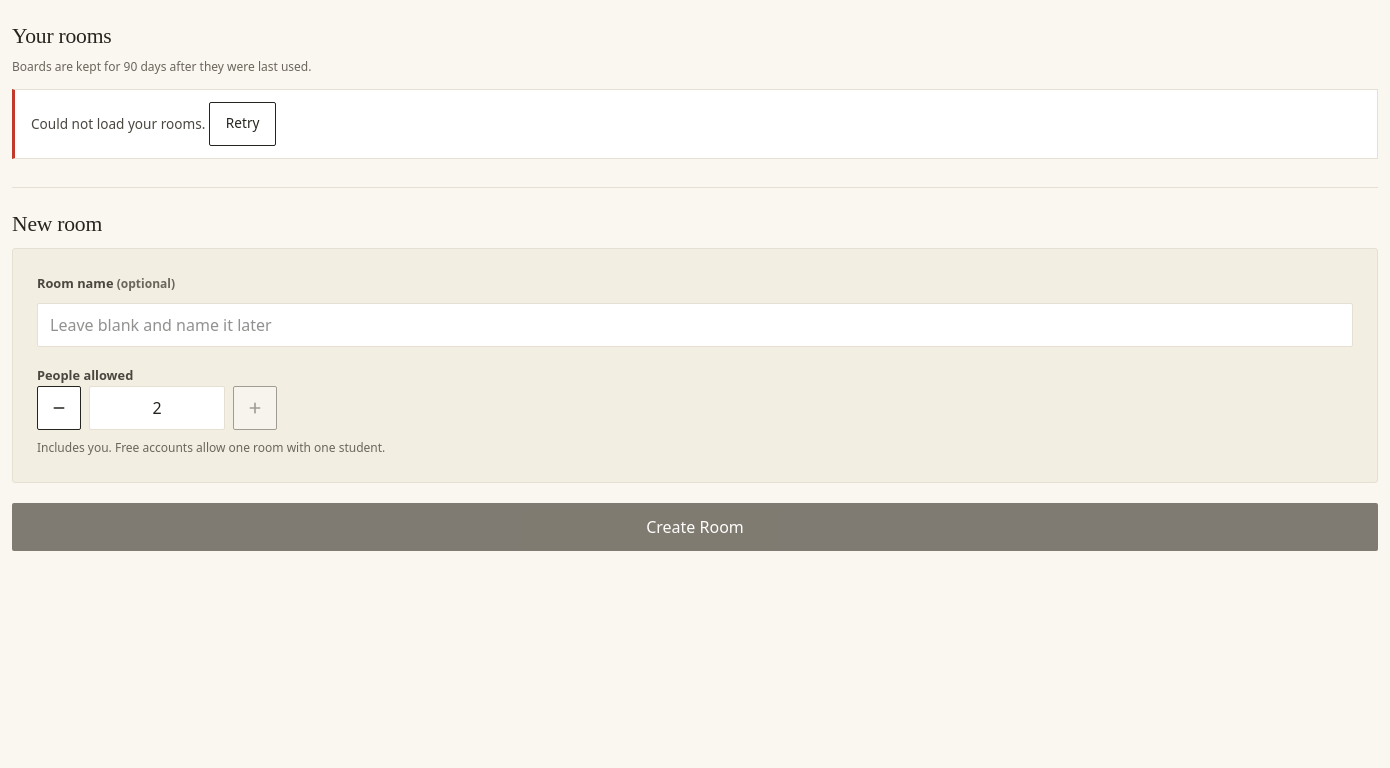
Test case: TeacherRoomsPanel room list reads › retries a failed list read and replaces the error with the rooms
This screenshot has width=1390, height=768.
expect the message "Could not load your rooms. Retry" is shown: met, box [12, 89, 1378, 159]
Click the button with test id "whiteboard-room-list-retry" at [243, 124], box [209, 102, 276, 146]
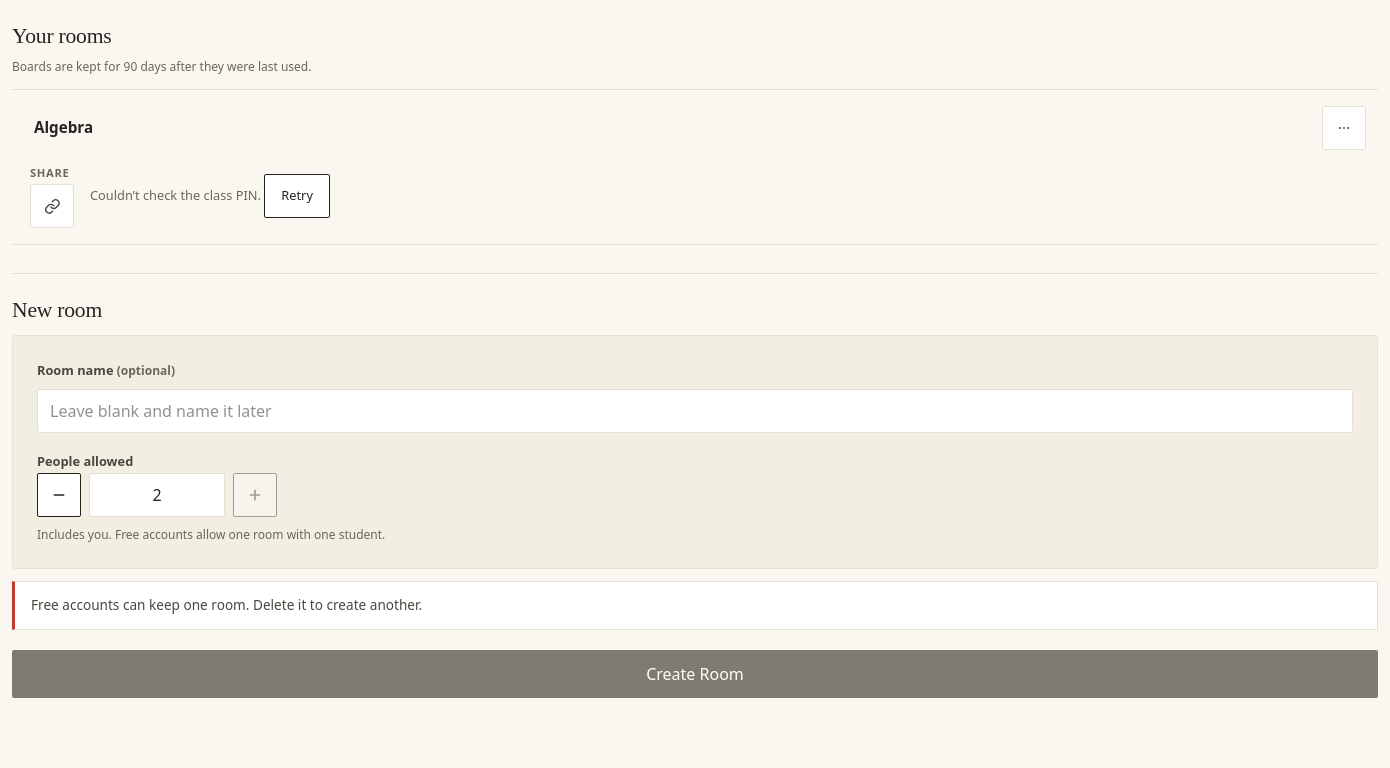
expect the link with test id "whiteboard-room-list-item-room-alpha" is shown: met, box [34, 117, 93, 137]
expect the message with test id "whiteboard-room-list-error" is gone: met
